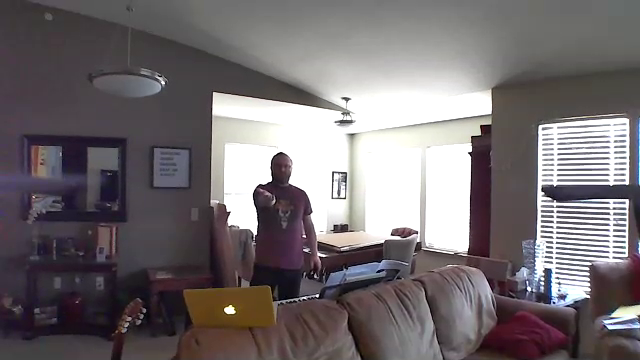land: (252, 185, 281, 207)
